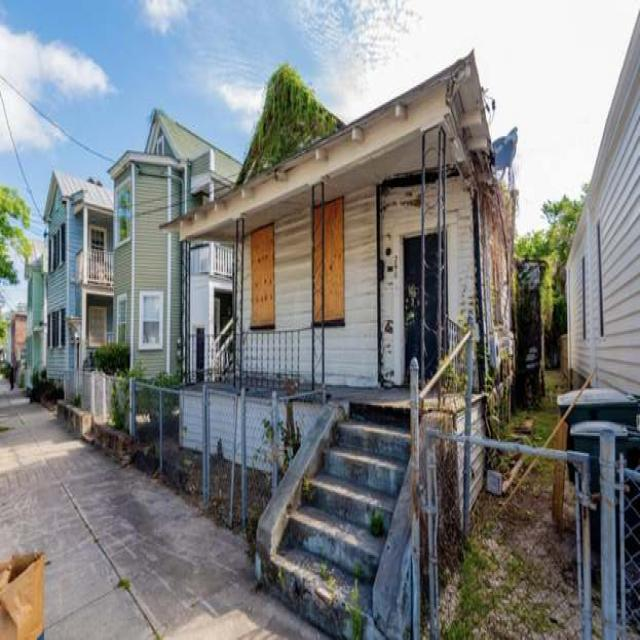House: (158, 48, 516, 640), (110, 109, 246, 443), (565, 6, 640, 393), (46, 170, 112, 430)
